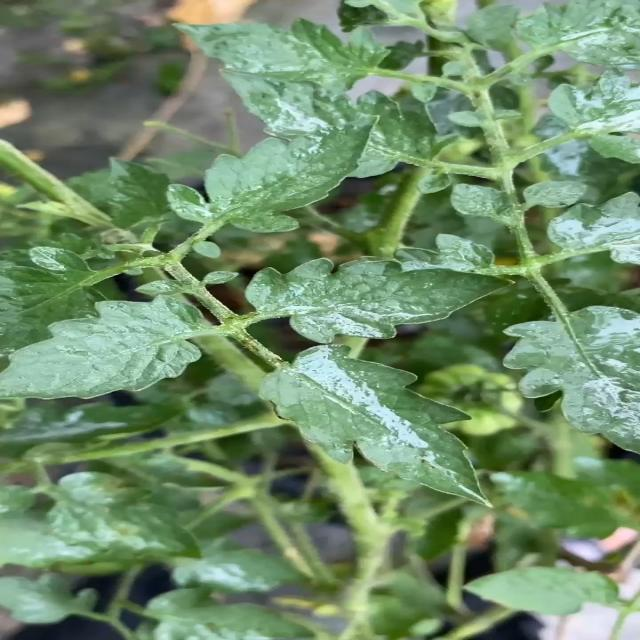Tomato_Healthy: (244, 353, 510, 525), (153, 123, 414, 233), (231, 260, 517, 343), (0, 298, 207, 400)
